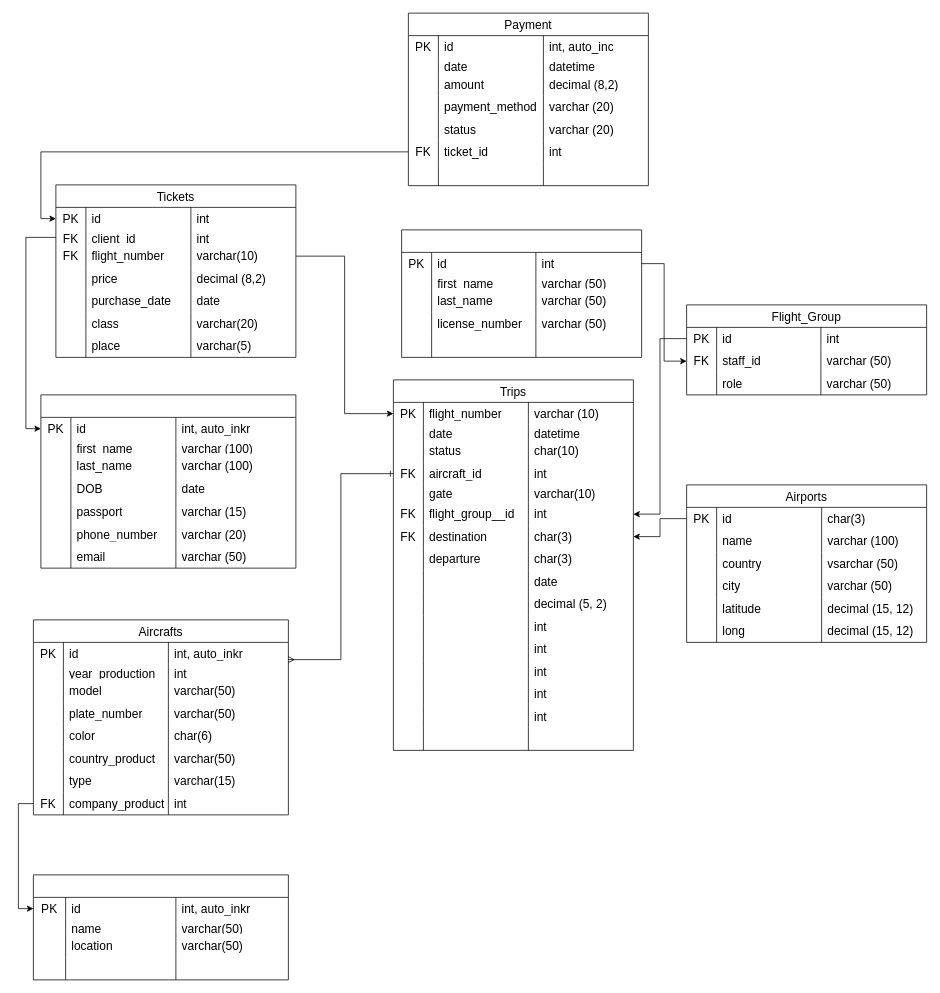
The diagram is 940 pixels wide and 993 high, and some of its shapes have lost their labels. Here are the shapes that lost their labels. From the top down, the box of each, then its label:
(401, 229, 642, 357): Staff
(40, 394, 296, 568): Clients
(33, 874, 288, 980): Production_Company
